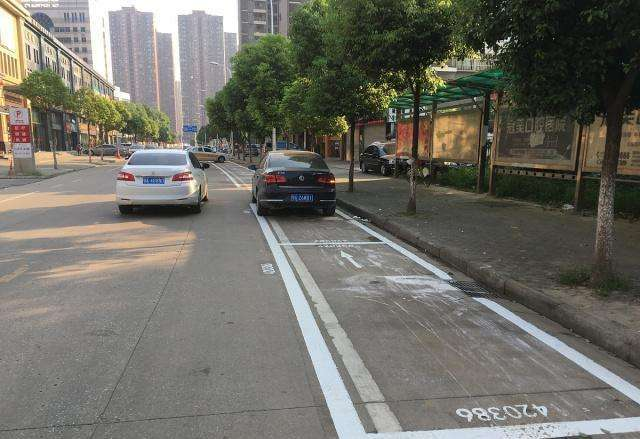slot_nocar: (274, 234, 640, 438), (214, 158, 264, 191)
